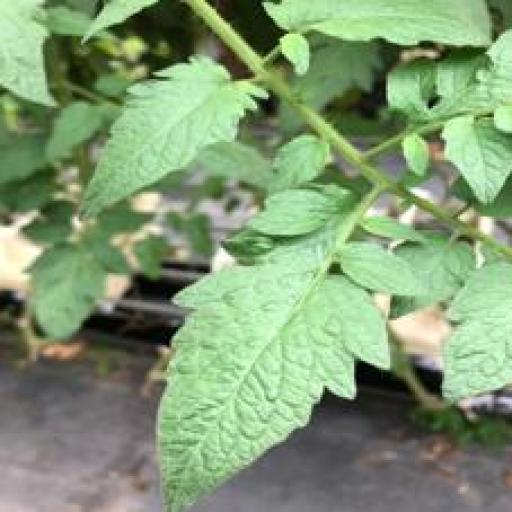Healthy: (156, 237, 392, 512), (79, 54, 271, 215), (262, 0, 492, 49), (440, 262, 512, 401), (440, 113, 512, 212), (244, 187, 338, 235), (269, 137, 332, 187), (360, 210, 427, 246)
